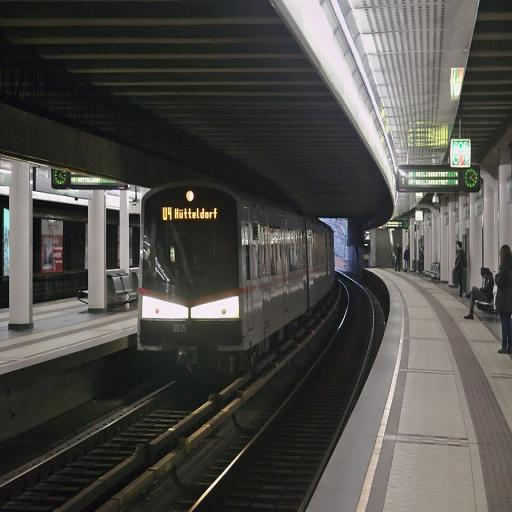V-Wagen: (135, 176, 338, 374)
